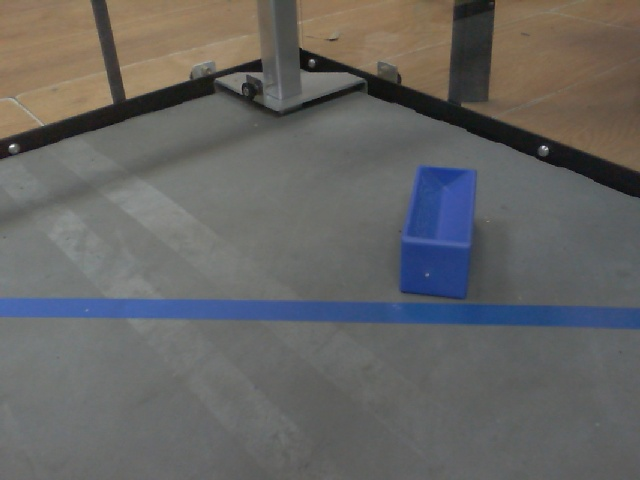BlueSample: (399, 163, 481, 301)
